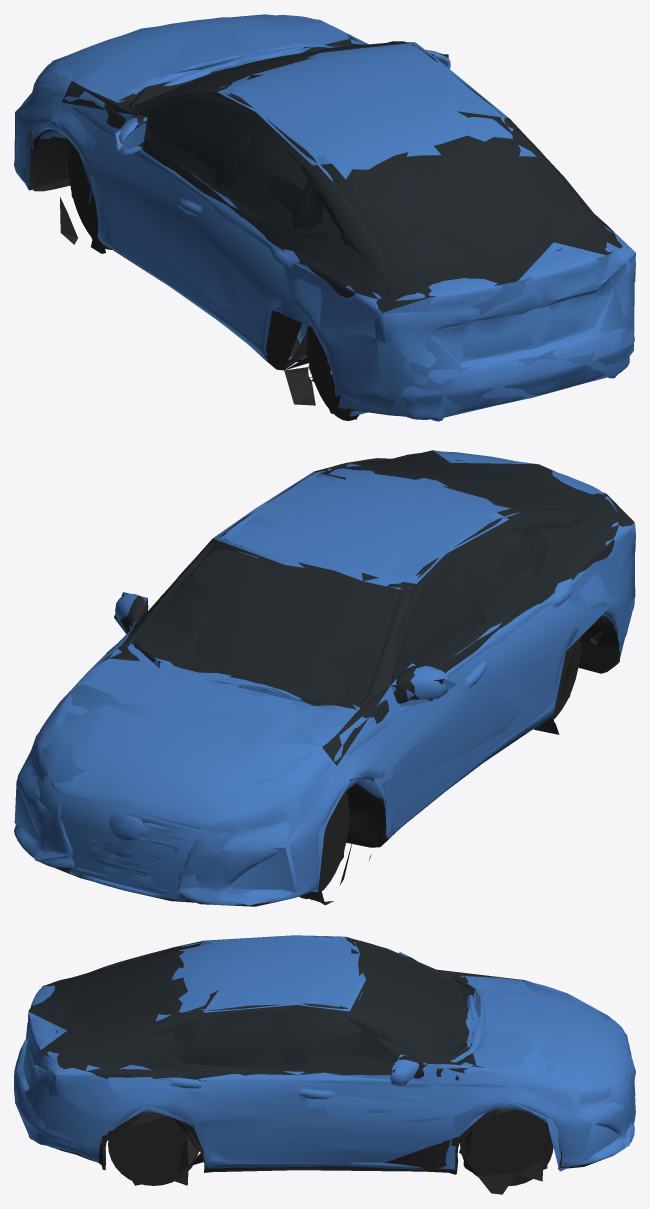
File: nissan-altima.glb
The picture shows the model from 3 angles, top to bottom: view 1: azimuth 30°, elevation 25°; view 2: azimuth 150°, elevation 25°; view 3: azimuth 270°, elevation 25°; orthographic projection. The views are drawn at different scales.
Parts seen in each view (by area): view 1: body, far; view 2: body, far; view 3: body, far.
Boxes of the visible parts, left/top/right/bottom form: body: left=14, top=15, right=635, bottom=421; far: left=14, top=14, right=635, bottom=419; body: left=14, top=451, right=635, bottom=906; far: left=14, top=450, right=635, bottom=905; body: left=14, top=936, right=635, bottom=1194; far: left=14, top=935, right=635, bottom=1185.
Size of the model in its own units: 2.3 by 1.6 by 4.93.
